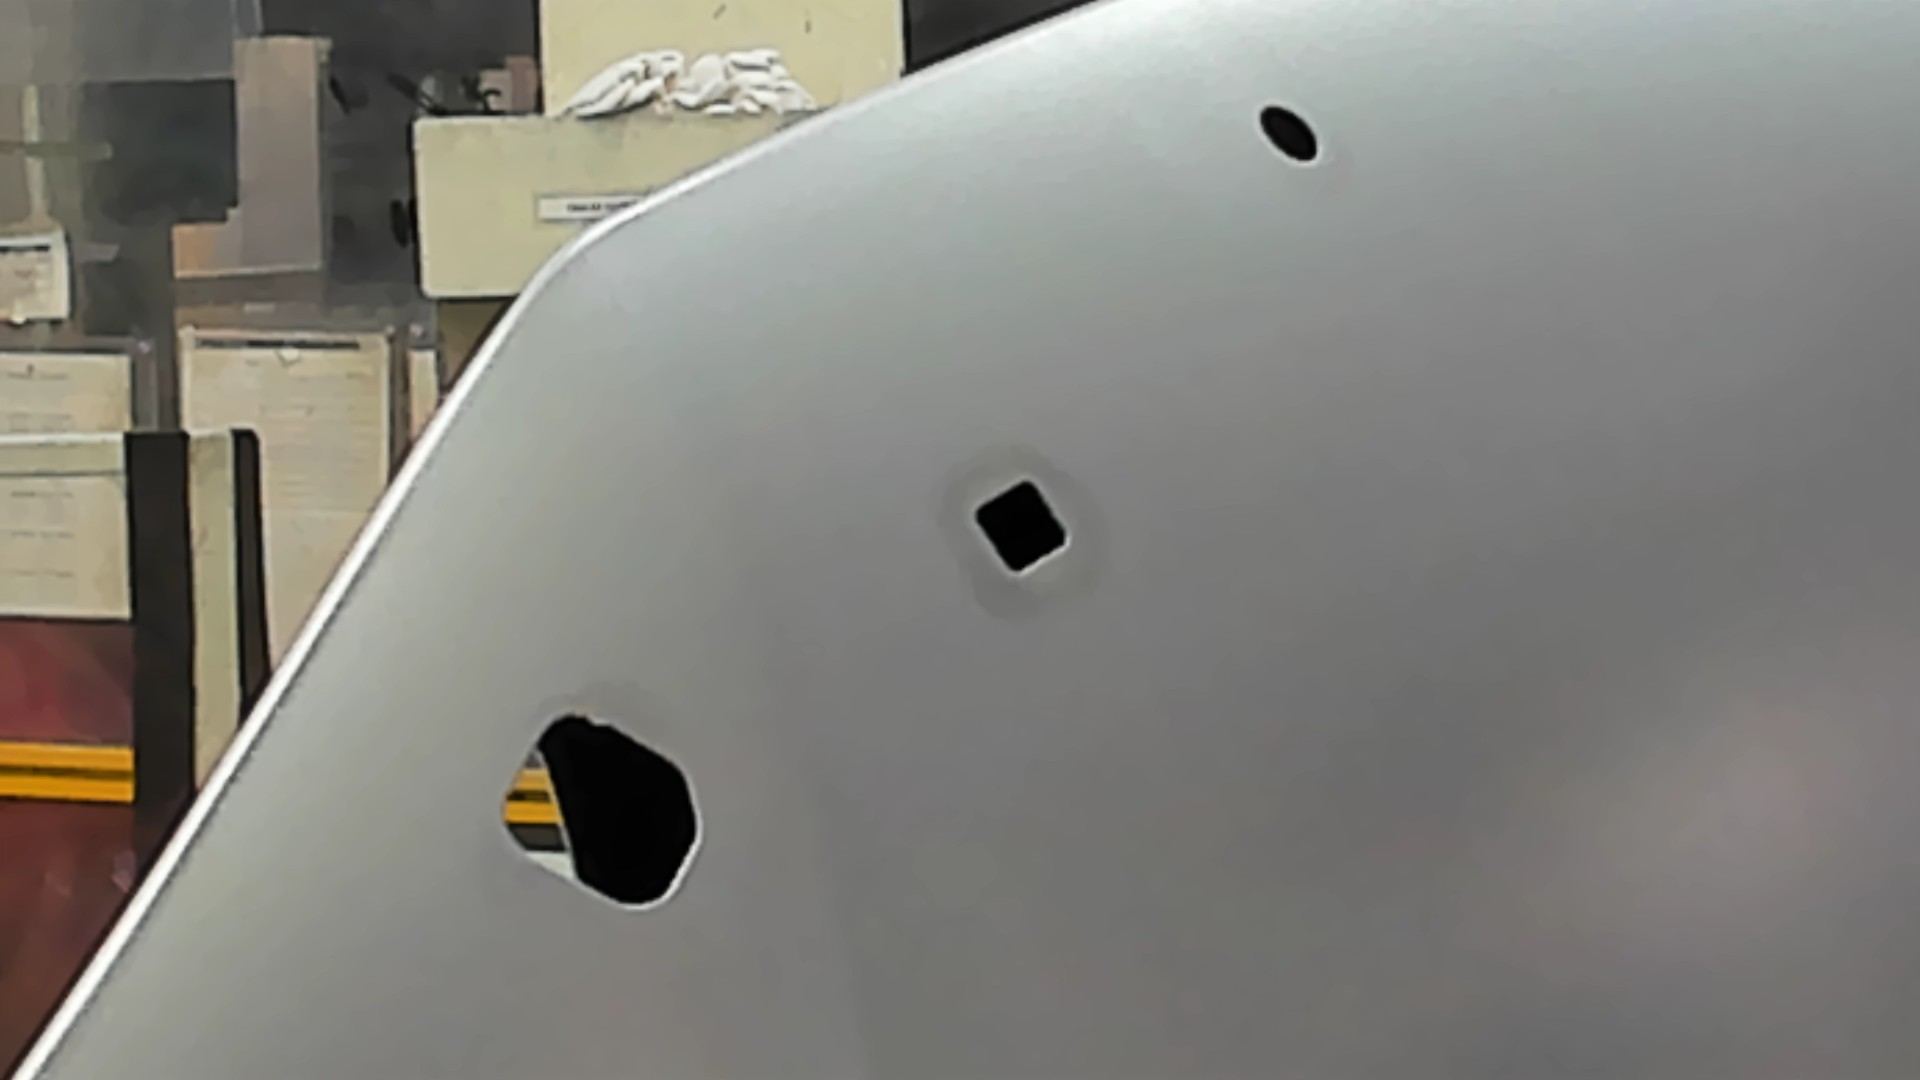chico: (1255, 102, 1321, 167)
grande: (493, 708, 705, 920)
mediano: (969, 473, 1077, 585)
